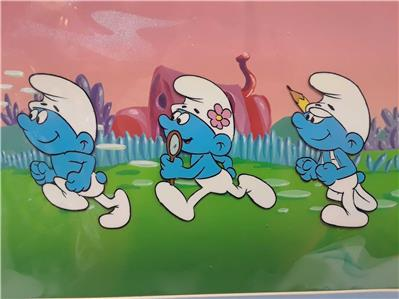smurf: (151, 73, 277, 221), (15, 73, 132, 230), (284, 70, 377, 228)
